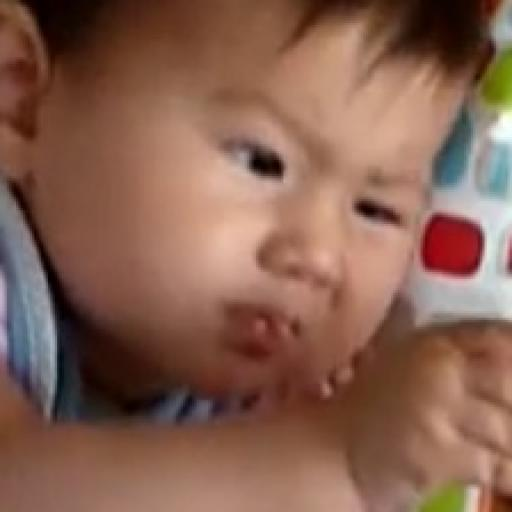Autism: (37, 6, 457, 440)
